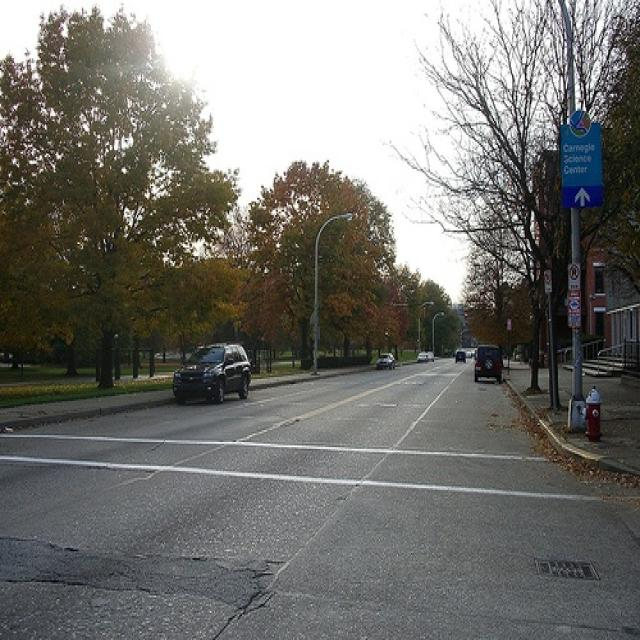car: (172, 343, 250, 406), (472, 344, 504, 386)
